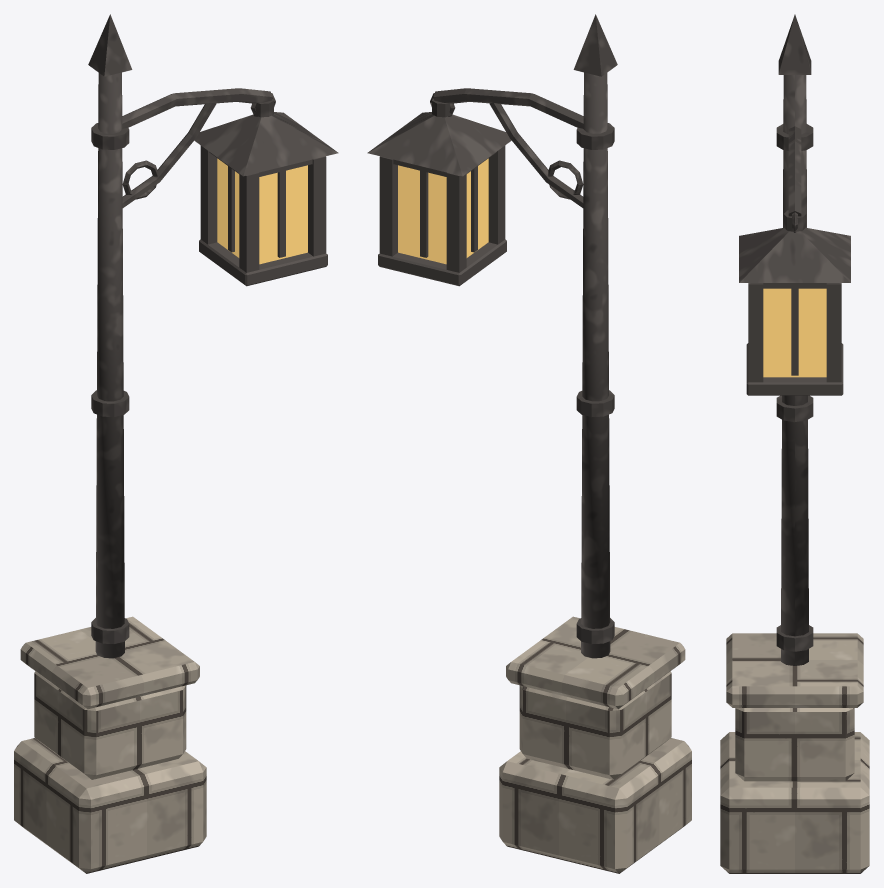
Rendered from street_lamp.glb.
3 views of the same model, side by side, from view 1: azimuth 30°, elevation 25°; view 2: azimuth 150°, elevation 25°; view 3: azimuth 270°, elevation 25° (orthographic).
Visible parts, largest first — view 1: street_lamp_stone_base, street_lamp_post_bracket, street_lamp_lantern_frame, street_lamp_cap, street_lamp_glass_insert; view 2: street_lamp_stone_base, street_lamp_post_bracket, street_lamp_lantern_frame, street_lamp_cap, street_lamp_glass_insert; view 3: street_lamp_stone_base, street_lamp_post_bracket, street_lamp_lantern_frame, street_lamp_cap, street_lamp_glass_insert.
Part boxes in pixels (bbox=[...]): street_lamp_stone_base: bbox=[14, 616, 206, 873]; street_lamp_post_bracket: bbox=[88, 14, 272, 658]; street_lamp_lantern_frame: bbox=[199, 93, 327, 286]; street_lamp_cap: bbox=[194, 98, 338, 176]; street_lamp_glass_insert: bbox=[217, 158, 307, 264]; street_lamp_stone_base: bbox=[499, 616, 691, 873]; street_lamp_post_bracket: bbox=[433, 14, 617, 658]; street_lamp_lantern_frame: bbox=[378, 93, 506, 286]; street_lamp_cap: bbox=[367, 98, 511, 176]; street_lamp_glass_insert: bbox=[398, 158, 488, 264]; street_lamp_stone_base: bbox=[720, 633, 869, 873]; street_lamp_post_bracket: bbox=[776, 14, 813, 665]; street_lamp_lantern_frame: bbox=[746, 212, 843, 395]; street_lamp_cap: bbox=[739, 210, 850, 282]; street_lamp_glass_insert: bbox=[763, 288, 826, 377].
Size of what is drawn, in the model's own units: 1.04 by 3.08 by 0.5.
Materials: 4 (4 with a texture image).
